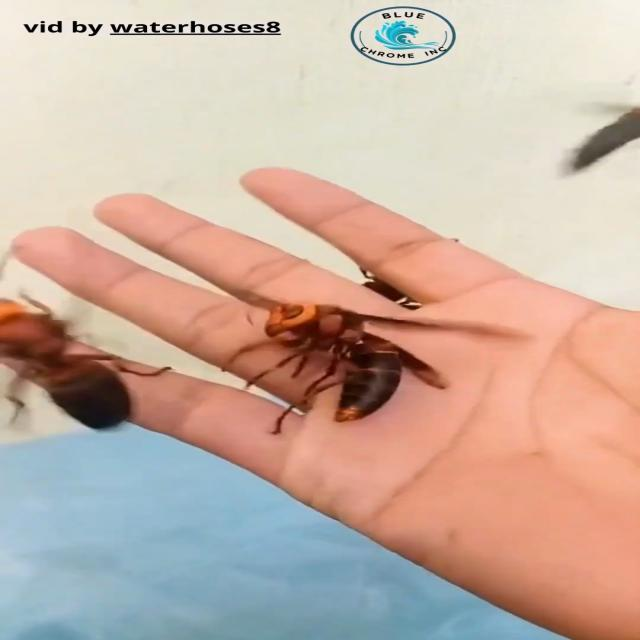Hornets: (224, 299, 537, 436), (1, 290, 174, 432)
